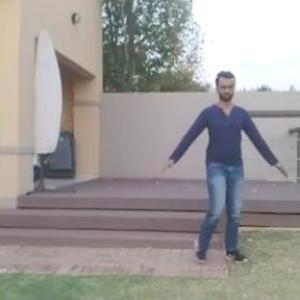land: (159, 83, 274, 272)
